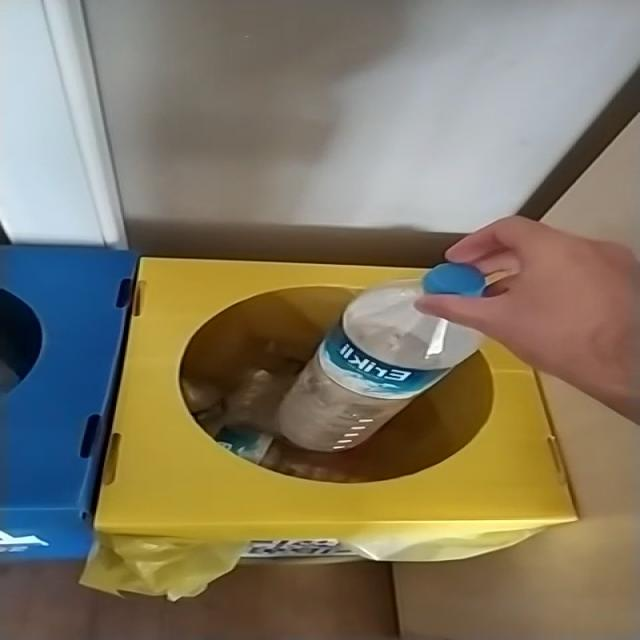plastic: (277, 264, 484, 451)
